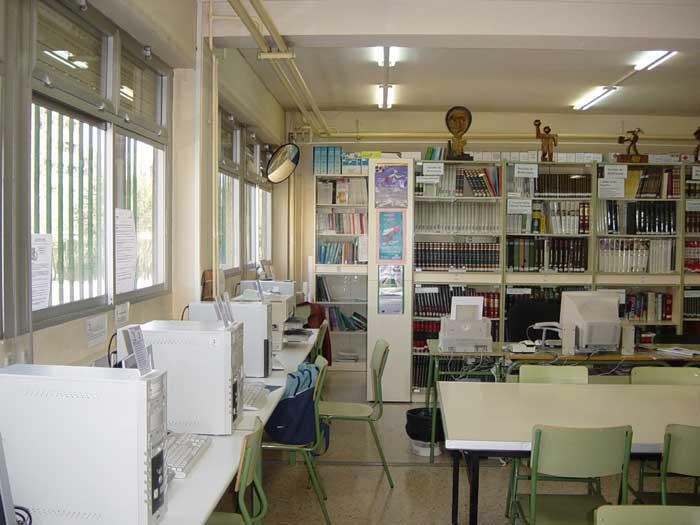Bote de Basura: (402, 400, 450, 460)
Ventana: (12, 63, 170, 333), (212, 148, 279, 278)
